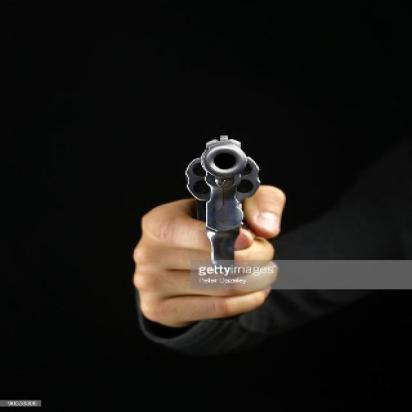Gun: (182, 126, 262, 269)
